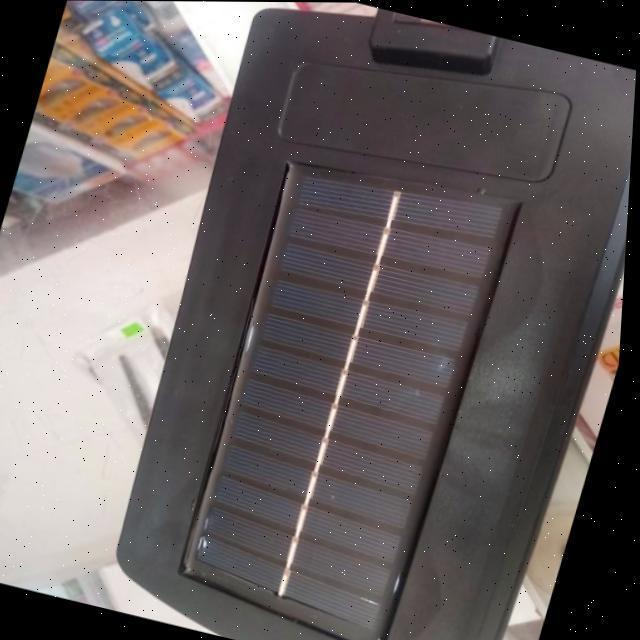Normal Solar Panel: (180, 160, 503, 632)
